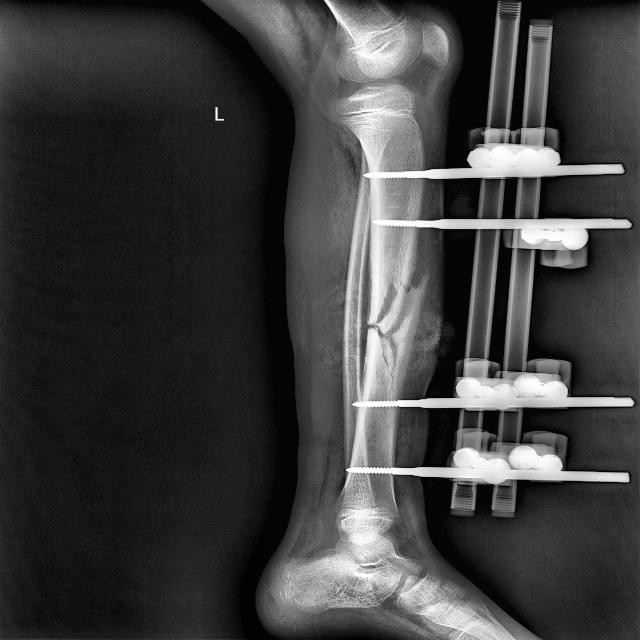Fracture: (343, 261, 441, 388)
